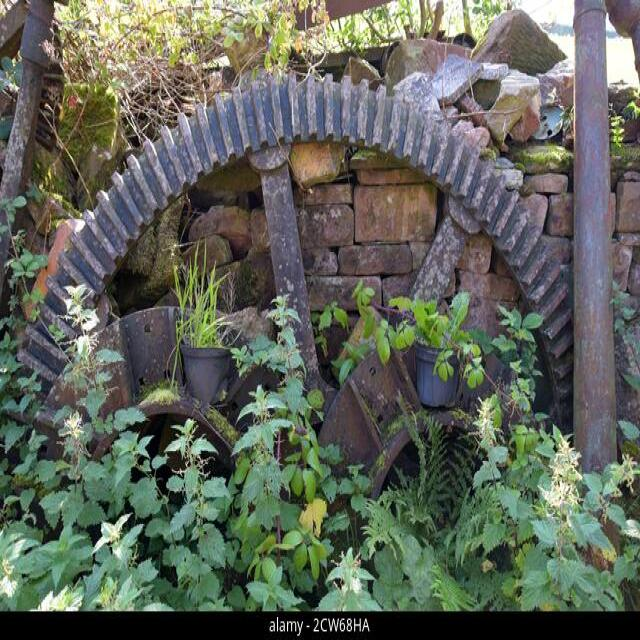Gear: (21, 68, 582, 498)
